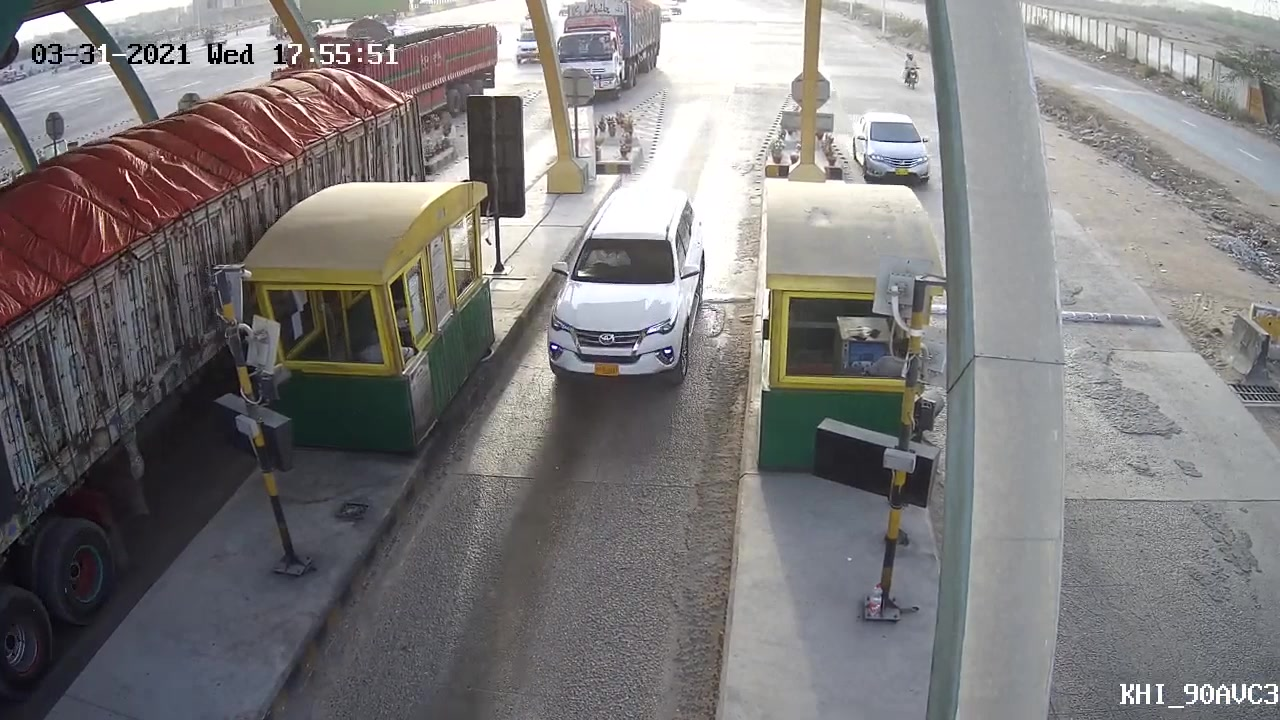F1: (542, 180, 720, 399)
